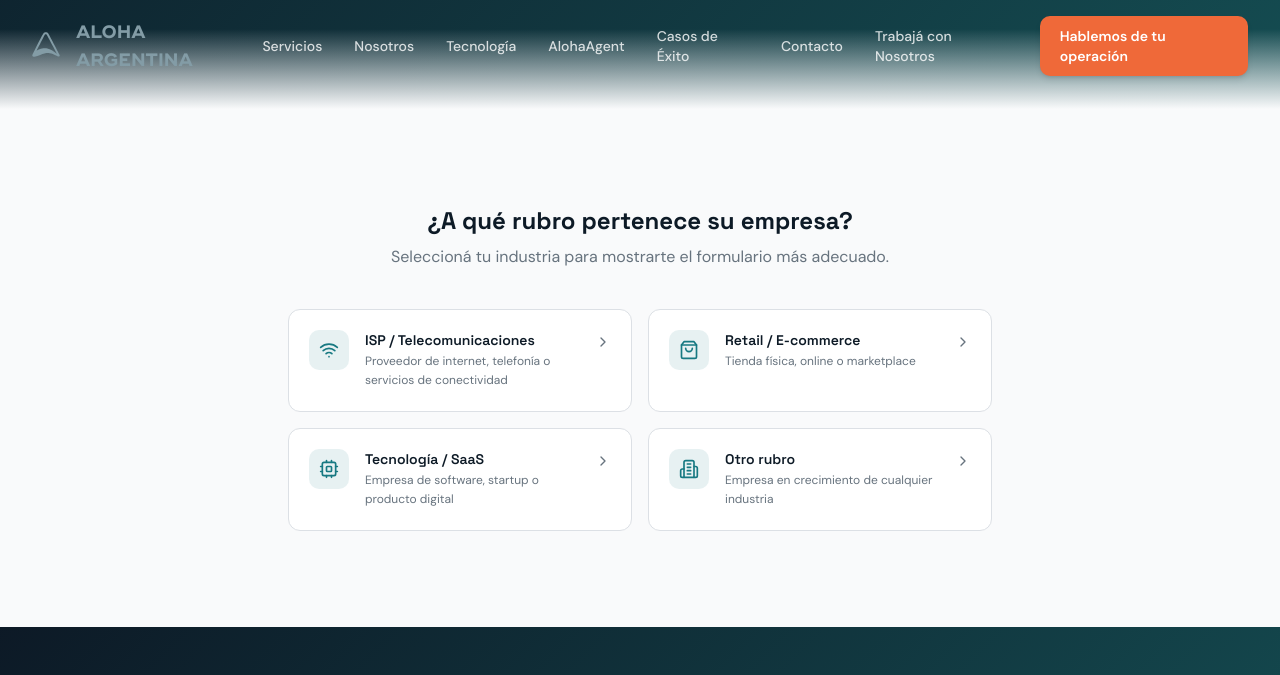
it: CotizarServicio · accesibilidad › cada campo de texto está asociado a su etiqueta
This screenshot has width=1280, height=675.
(page scrolled)
Click the button "ISP / Telecomunicaciones" at point(460, 360), box 288,308 -> 632,412
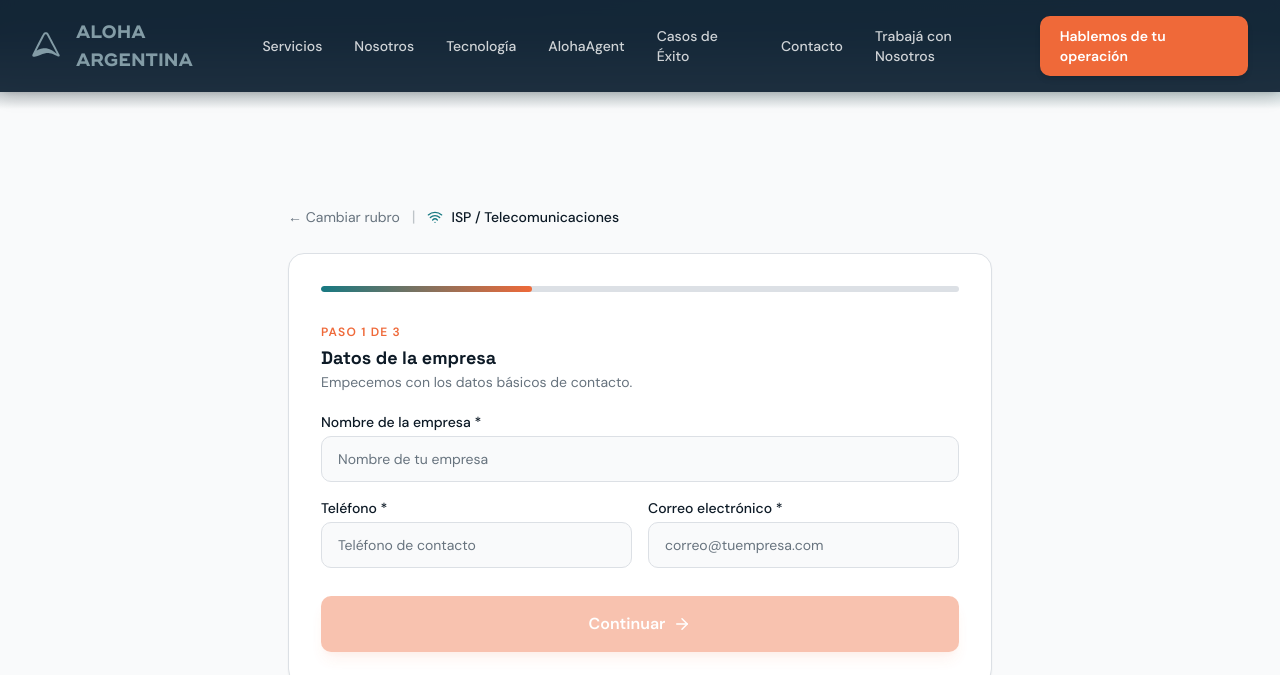
Result: the field labelled "Nombre de la empresa *" is shown at 321,436 -> 959,482
Result: the field labelled "Teléfono *" is shown at 321,522 -> 632,568
Result: the field labelled "Correo electrónico *" is shown at 648,522 -> 959,568
